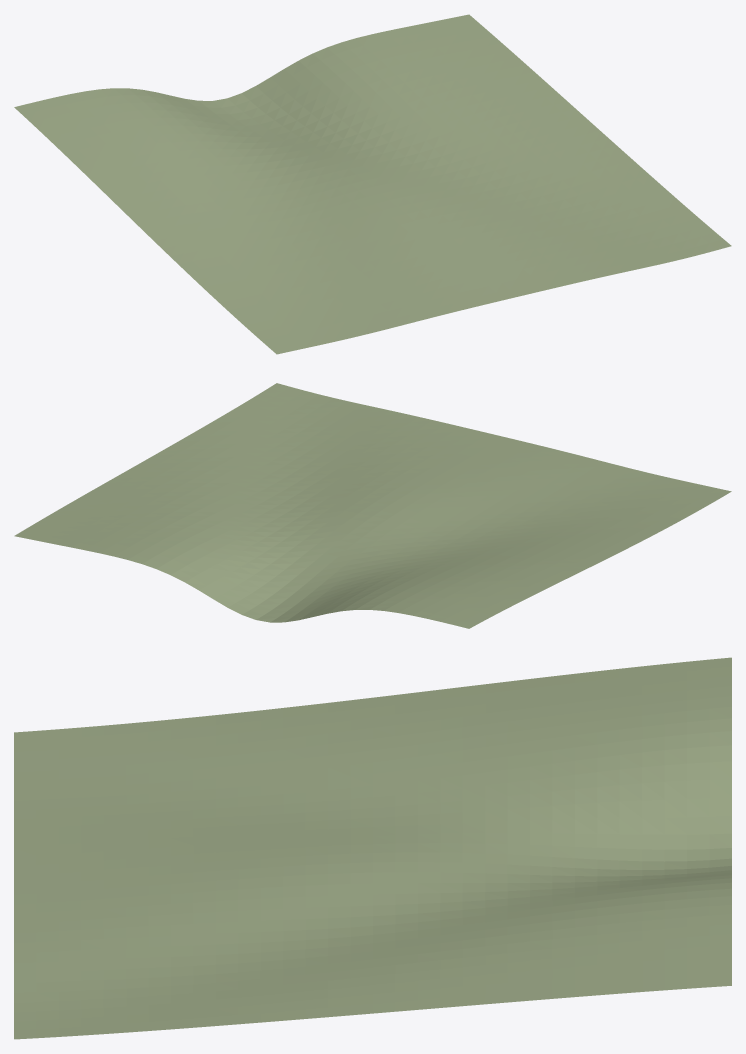
The model's file is lunar-3-5.glb.
3 renders of one model, top to bottom at view 1: azimuth 30°, elevation 25°; view 2: azimuth 150°, elevation 25°; view 3: azimuth 270°, elevation 25°, orthographic. The views are drawn at different scales.
Visible parts, largest first — view 1: lunar-3-5; view 2: lunar-3-5; view 3: lunar-3-5.
Part boxes in pixels (<box>): lunar-3-5: <box>14,14,731,354</box>; lunar-3-5: <box>14,383,731,628</box>; lunar-3-5: <box>14,657,731,1039</box>.
Size of the model in its own units: 128 by 15.75 by 128.
